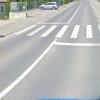crosswalks: (15, 22, 100, 42)
